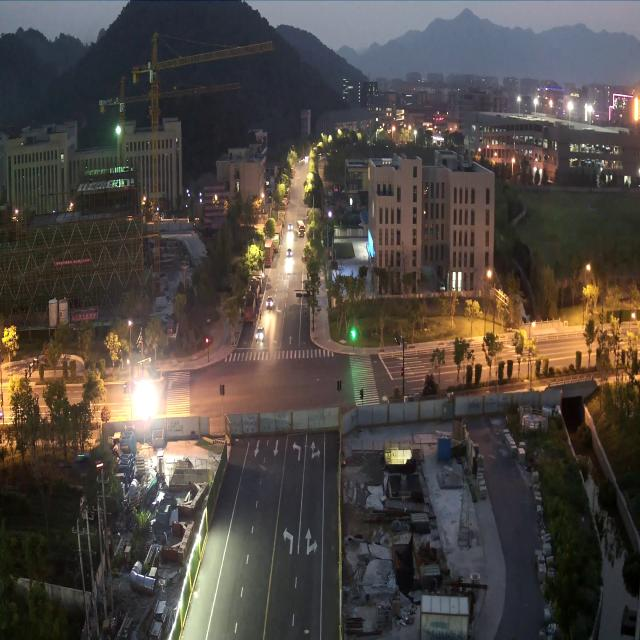UAV: (61, 444, 105, 476)
